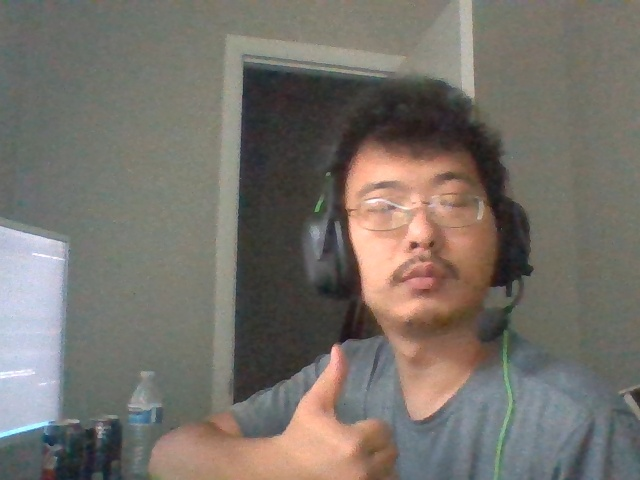ThumbsUp: (285, 342, 398, 480)
